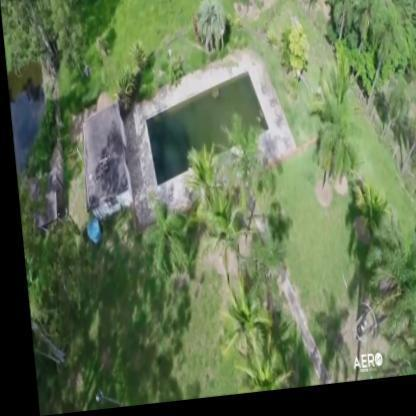agua: (155, 83, 246, 184)
